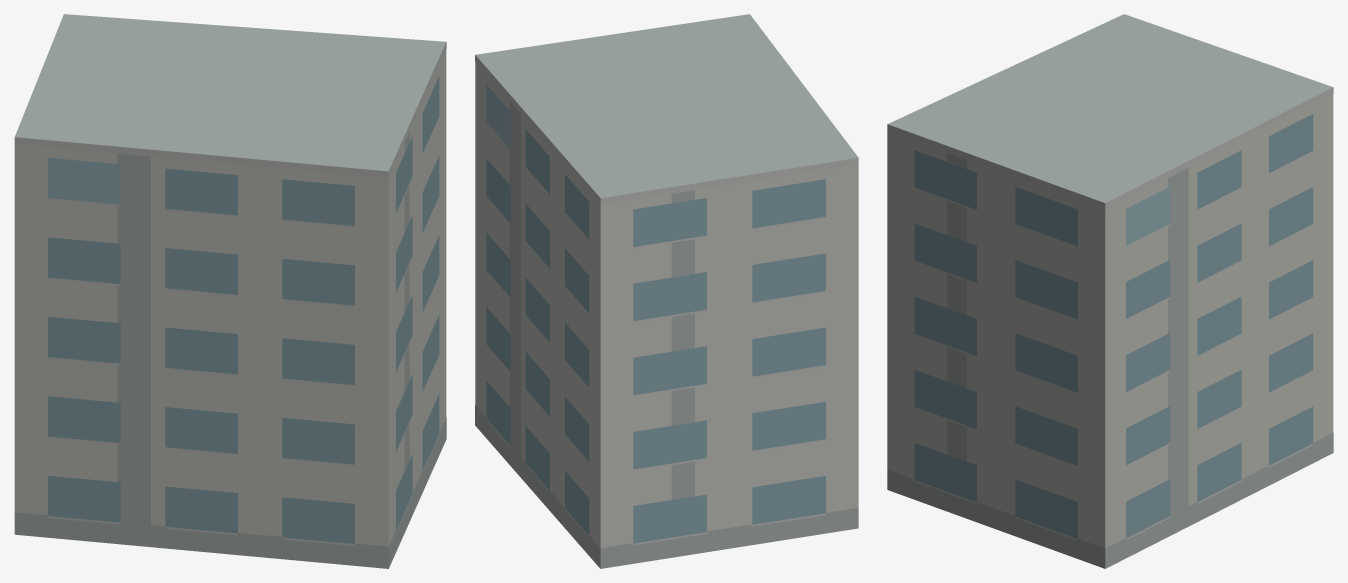
The model's file is survey-upis-32568510.glb.
3 renders of one model, left to right at view 1: azimuth 30°, elevation 25°; view 2: azimuth 150°, elevation 25°; view 3: azimuth 270°, elevation 25°, orthographic. The views are drawn at different scales.
Parts seen in each view (by area): view 1: survey-upis-32568510.tmp; view 2: survey-upis-32568510.tmp; view 3: survey-upis-32568510.tmp.
Boxes of the visible parts, bbox=[...] form: survey-upis-32568510.tmp: bbox=[14, 14, 446, 568]; survey-upis-32568510.tmp: bbox=[475, 14, 858, 568]; survey-upis-32568510.tmp: bbox=[887, 14, 1333, 568].
Size of the model in its own units: 14.82 by 13.35 by 14.77.
